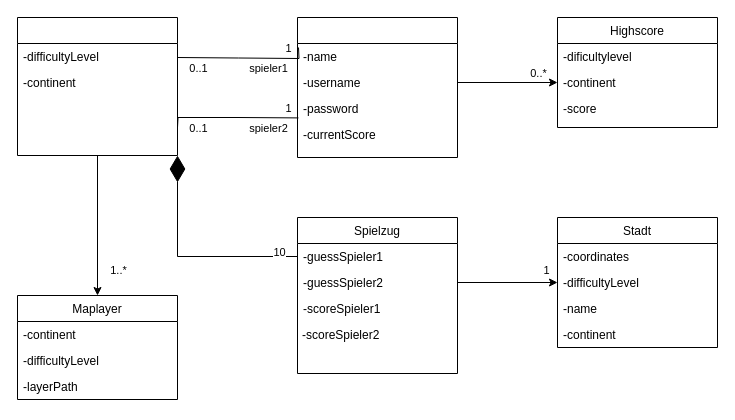
The diagram is 735 pixels wide and 420 high, and some of its shapes have lost their labels. The shapes that lost their labels are listed below. From the top down, each one's box as (x1, y1, x2, y2) in pixels, then its label:
(16, 16, 178, 156): Spiel
(296, 16, 458, 158): Spieler
